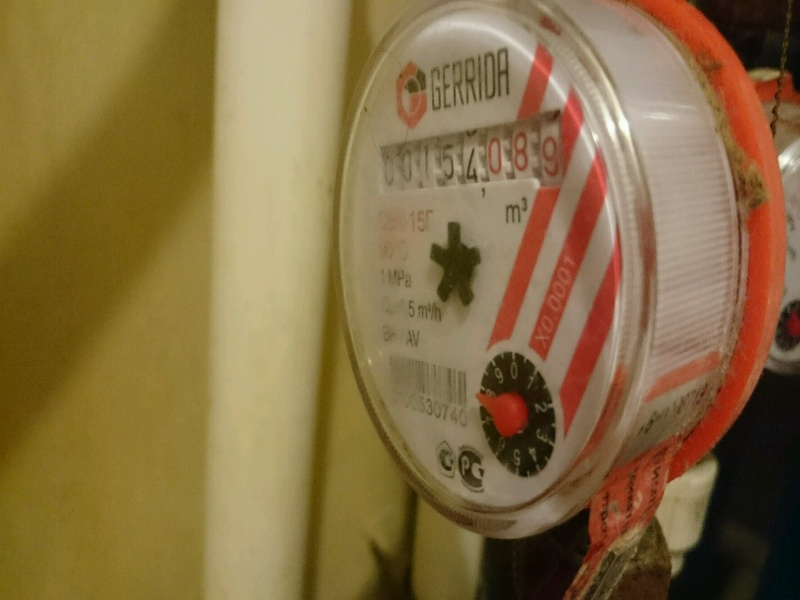meter: (367, 111, 609, 190)
